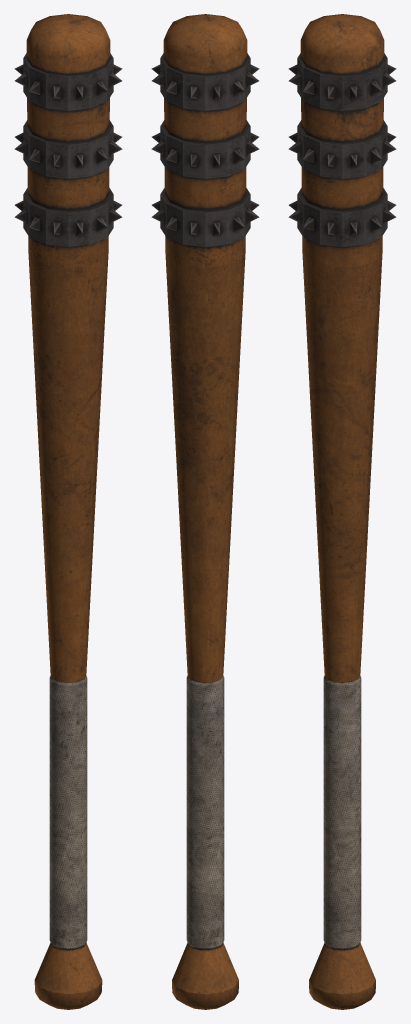
File: Baseball_bat_spikes.fbx
3 views of the same model, side by side, from view 1: azimuth 90°, elevation 25°; view 2: azimuth 150°, elevation 25°; view 3: azimuth 330°, elevation 25° (orthographic).
Visible parts, largest first — view 1: Baseball_bat_spikes; view 2: Baseball_bat_spikes; view 3: Baseball_bat_spikes.
Boxes of the visible parts, bbox=[...] form: Baseball_bat_spikes: bbox=[14, 14, 122, 1009]; Baseball_bat_spikes: bbox=[151, 14, 259, 1009]; Baseball_bat_spikes: bbox=[288, 14, 396, 1009].
Size of the model in its own units: 8.64 by 86.33 by 8.64.
